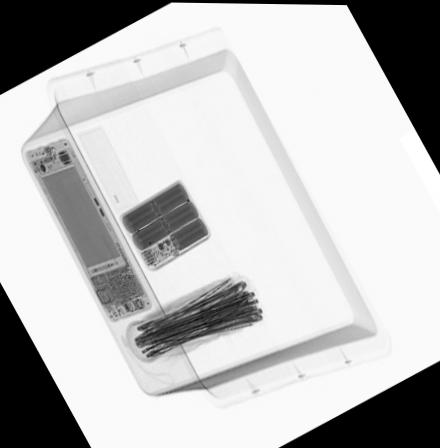Powerbank: (117, 176, 213, 273)
